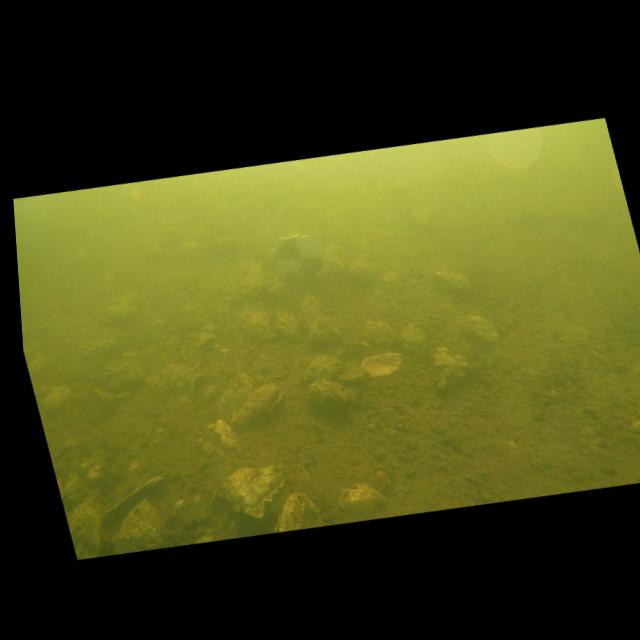Oyster-Closed: (221, 462, 288, 521), (87, 355, 149, 395), (268, 491, 327, 533), (309, 380, 375, 415), (229, 381, 279, 427), (433, 345, 479, 392), (336, 483, 393, 517), (154, 361, 203, 399), (274, 302, 318, 344), (306, 355, 362, 383), (428, 269, 480, 298), (458, 315, 503, 348), (359, 322, 405, 354), (309, 311, 350, 346), (44, 386, 88, 414), (345, 260, 383, 284), (303, 295, 329, 323), (247, 311, 276, 334)
Oyster-Indeterminate: (119, 496, 175, 554), (60, 489, 100, 556), (217, 372, 255, 416)
Oyster-Open: (96, 473, 168, 531), (346, 352, 406, 381), (260, 345, 282, 356)
